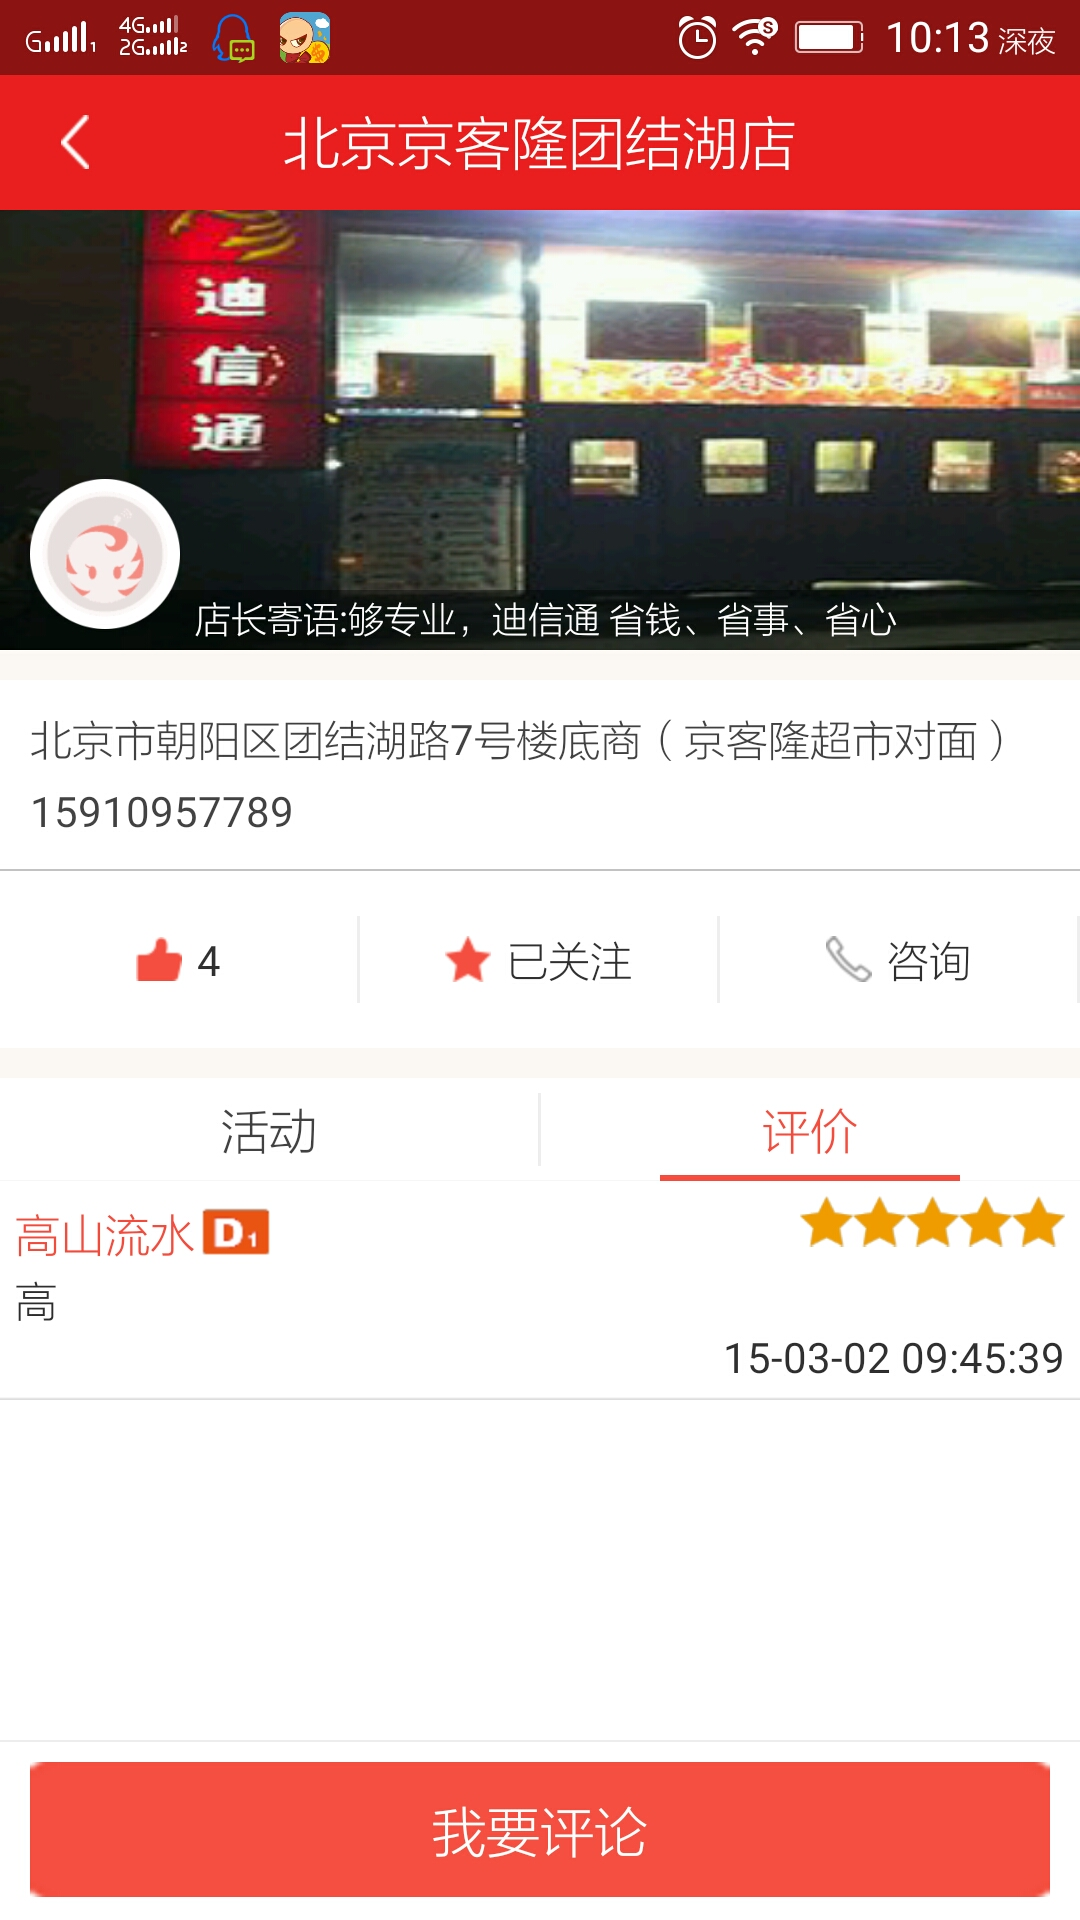button: (15, 1758, 1069, 1917)
checkbox: (125, 931, 200, 992)
nav: (15, 1081, 1071, 1193)
textview: (26, 683, 1079, 901)
